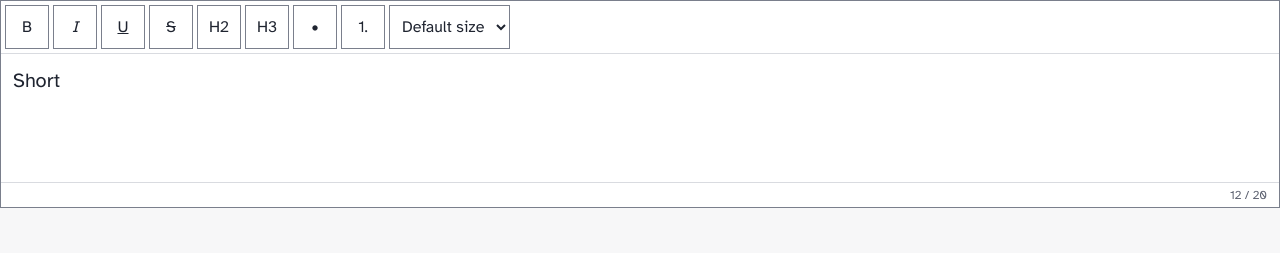
Test: TiptapEditor › blocks edits beyond maxLength and announces the limit without displayed/saved divergence
The width and height of the screenshot is (1280, 253).
Clear the field named "Limited text": (37, 80) [13, 68, 60, 93]
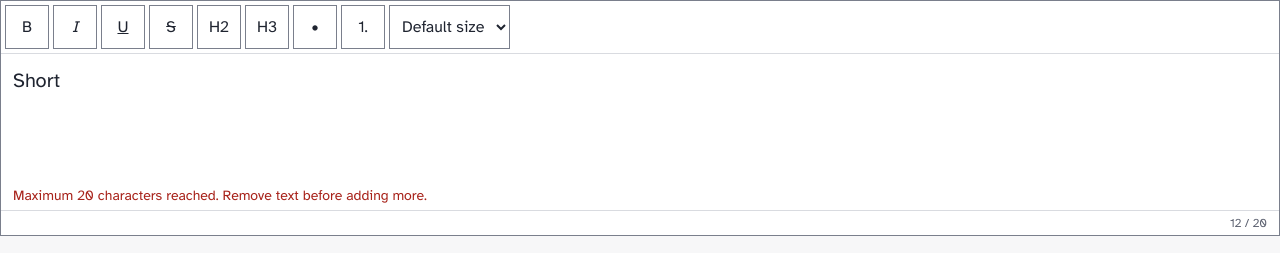
Now the text "Maximum 20 characters reached. Remove text before adding more." is shown, box [13, 187, 427, 204]
